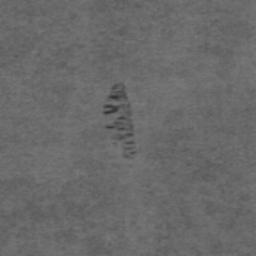Secondary rust skin: (102, 83, 128, 120), (105, 124, 136, 145)
